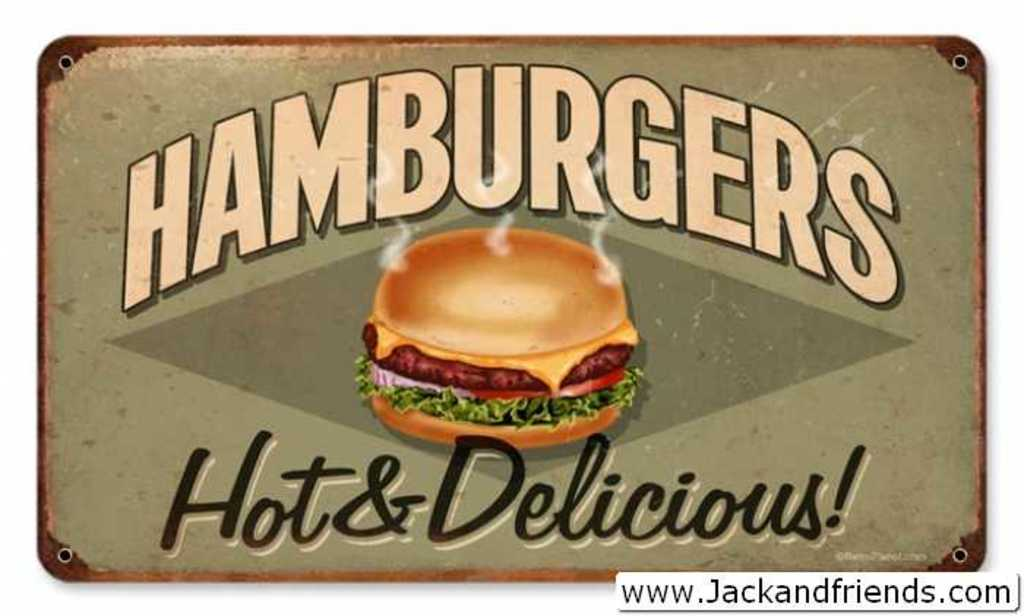Hamburger: (355, 226, 639, 446)
